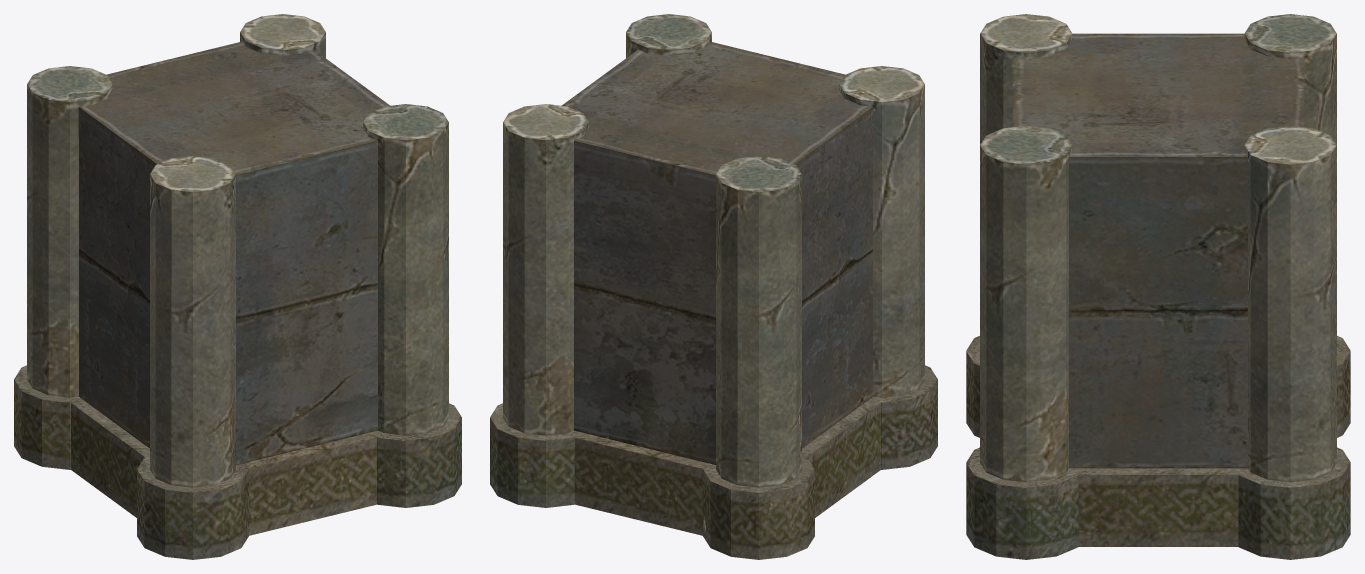
Rendered from bg_lut_lutomb_pillar08b_sm_old.FBX.
3 views of the same model, side by side, from view 1: azimuth 30°, elevation 25°; view 2: azimuth 150°, elevation 25°; view 3: azimuth 270°, elevation 25° (orthographic). The views are drawn at different scales.
Visible parts, largest first — view 1: bg_lut_lutomb_pillar08b_sm_old; view 2: bg_lut_lutomb_pillar08b_sm_old; view 3: bg_lut_lutomb_pillar08b_sm_old.
Part boxes in pixels (left/top/right/bottom): bg_lut_lutomb_pillar08b_sm_old: left=14, top=14, right=461, bottom=559; bg_lut_lutomb_pillar08b_sm_old: left=490, top=14, right=937, bottom=559; bg_lut_lutomb_pillar08b_sm_old: left=966, top=14, right=1350, bottom=559.
Bounding box in the file's own units: 116 × 130 × 116.
